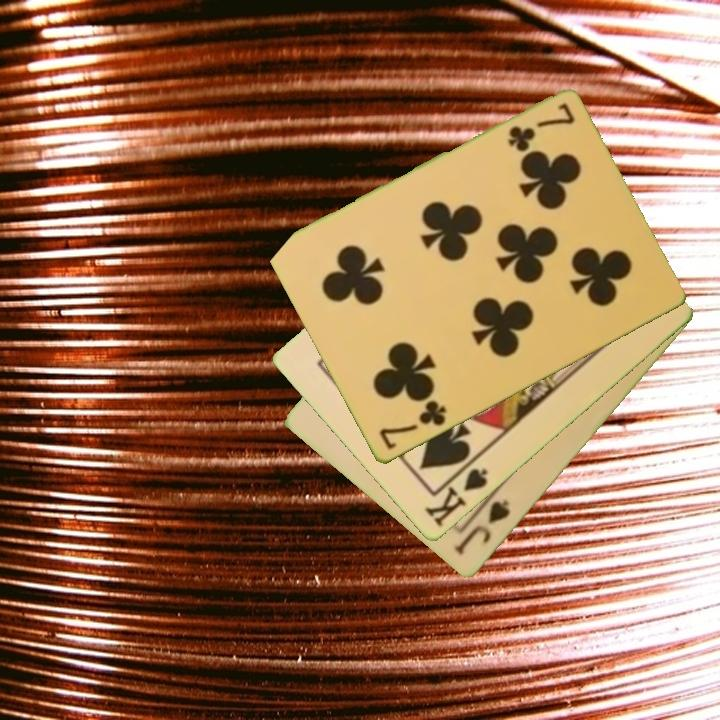7c: (375, 397, 450, 454), (504, 100, 578, 155)
Js: (450, 497, 514, 559)
Ks: (421, 456, 491, 531)
